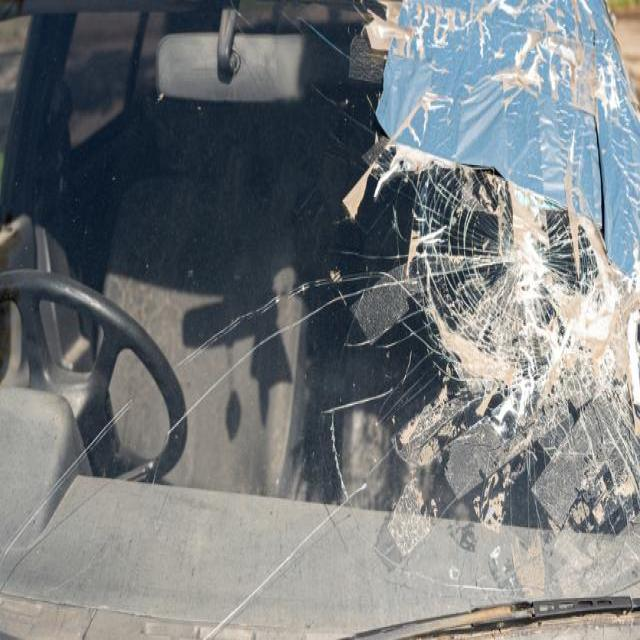Dent: (156, 275, 325, 388), (4, 478, 139, 612), (427, 407, 542, 525), (370, 349, 454, 442), (306, 80, 374, 142), (538, 296, 582, 382), (446, 329, 514, 382), (326, 242, 427, 271), (507, 24, 555, 82), (509, 522, 544, 594), (327, 401, 350, 508), (319, 384, 392, 417), (372, 154, 404, 202), (454, 578, 522, 595), (431, 7, 453, 48), (552, 39, 577, 70), (415, 223, 447, 246), (474, 388, 499, 417), (79, 607, 98, 637), (407, 116, 422, 145), (329, 266, 341, 281), (447, 564, 458, 580), (298, 281, 310, 294), (156, 90, 164, 100)
